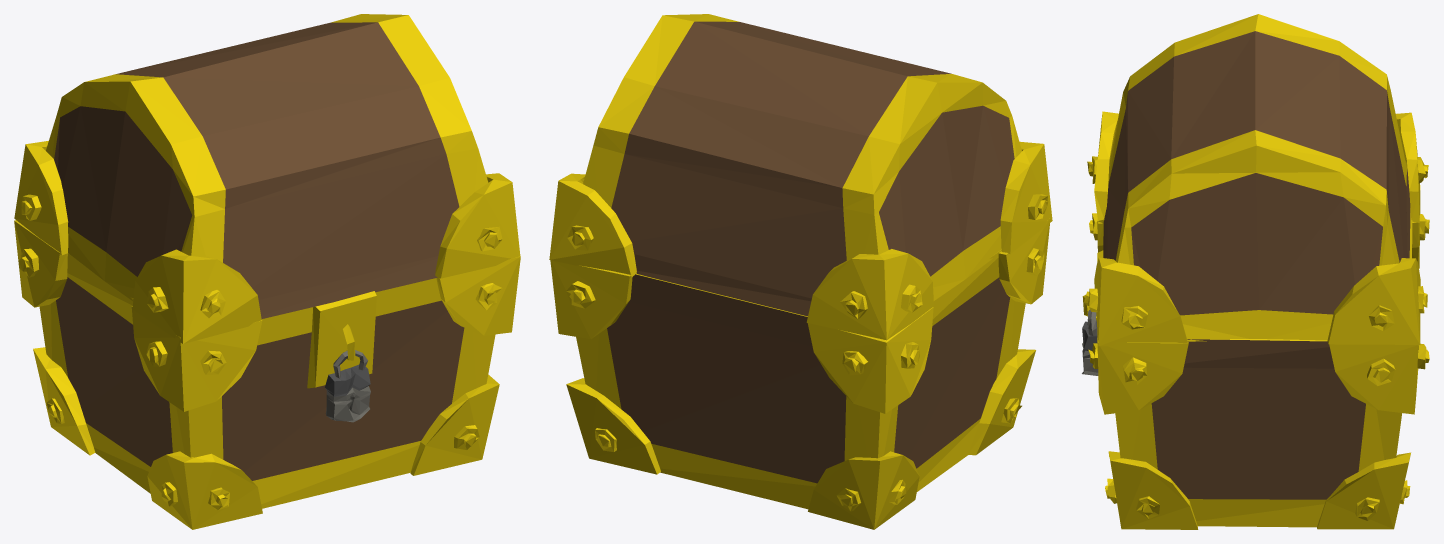
Rendered from RG-Dungeon_Chest-closed.fbx.
3 views of the same model, side by side, from view 1: azimuth 30°, elevation 25°; view 2: azimuth 150°, elevation 25°; view 3: azimuth 270°, elevation 25° (orthographic). The views are drawn at different scales.
Visible parts, largest first — view 1: RG-Dungeon_Chest-closed; view 2: RG-Dungeon_Chest-closed; view 3: RG-Dungeon_Chest-closed.
Boxes of the visible parts, bbox=[...] form: RG-Dungeon_Chest-closed: bbox=[14, 14, 520, 529]; RG-Dungeon_Chest-closed: bbox=[549, 14, 1052, 529]; RG-Dungeon_Chest-closed: bbox=[1082, 14, 1429, 529].
Bounding box in the file's own units: 3.88 × 4.03 × 3.32.
